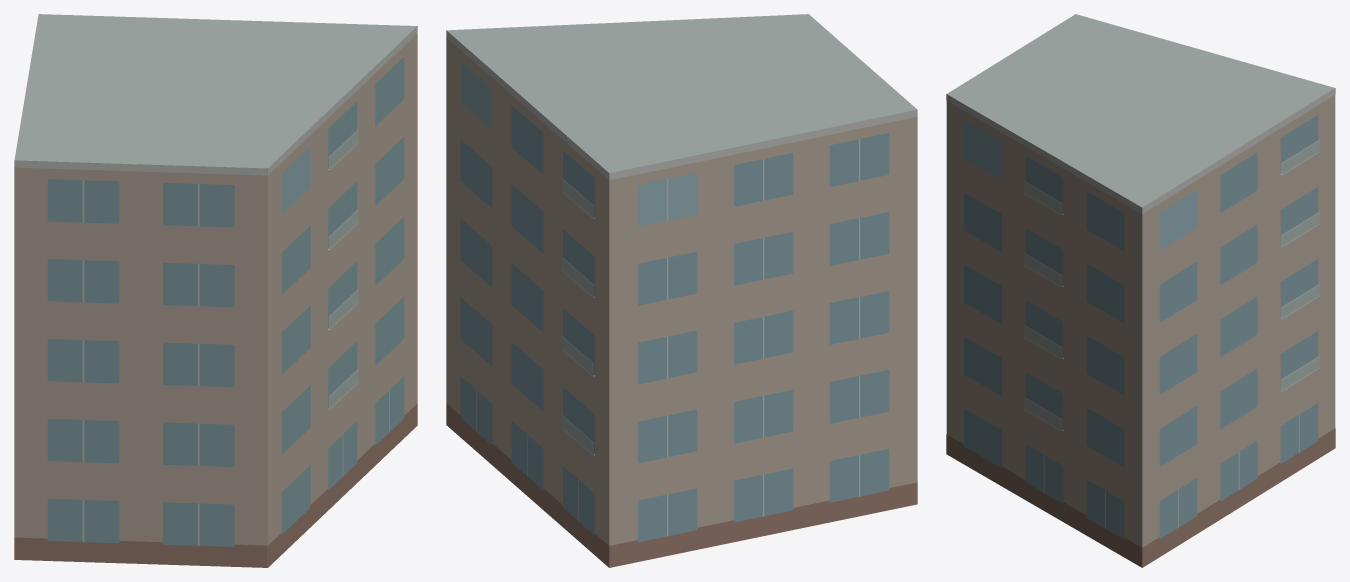
File: survey-upis-32634145.glb
3 renders of one model, left to right at view 1: azimuth 30°, elevation 25°; view 2: azimuth 150°, elevation 25°; view 3: azimuth 270°, elevation 25°, orthographic. The views are drawn at different scales.
Visible parts, largest first — view 1: survey-upis-32634145.tmp; view 2: survey-upis-32634145.tmp; view 3: survey-upis-32634145.tmp.
Boxes of the visible parts, box(x1,y1,x2,y2) form: survey-upis-32634145.tmp: box(14, 14, 417, 567); survey-upis-32634145.tmp: box(446, 14, 917, 567); survey-upis-32634145.tmp: box(946, 14, 1335, 567).
Bounding box in the file's own units: 15.57 × 13.5 × 13.21.
